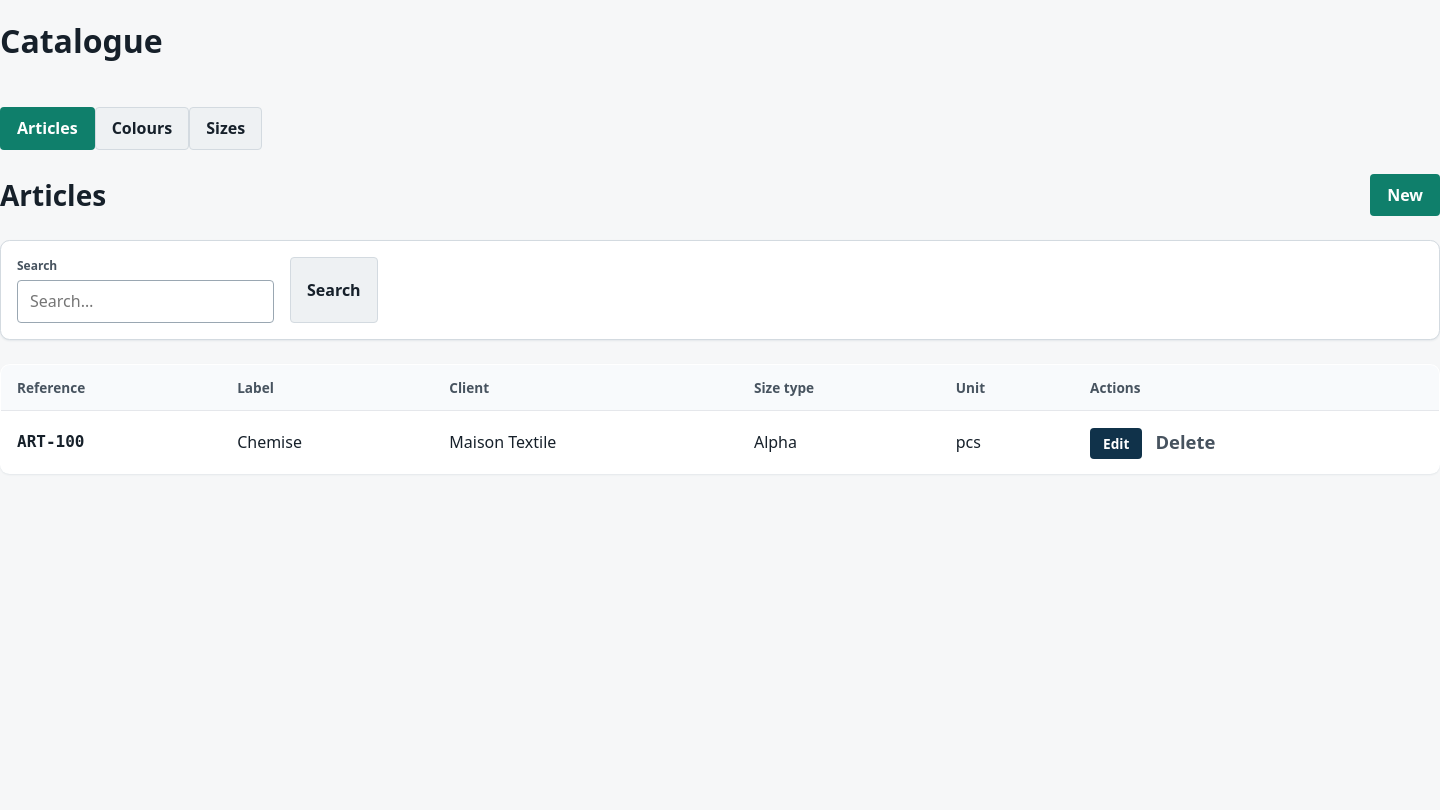
CataloguePage › guards unsaved changes when the editor is closed
Expected: the text "ART-100" is shown, [17, 432, 84, 451]
Click the button "New": (1405,195) [1370, 174, 1439, 216]
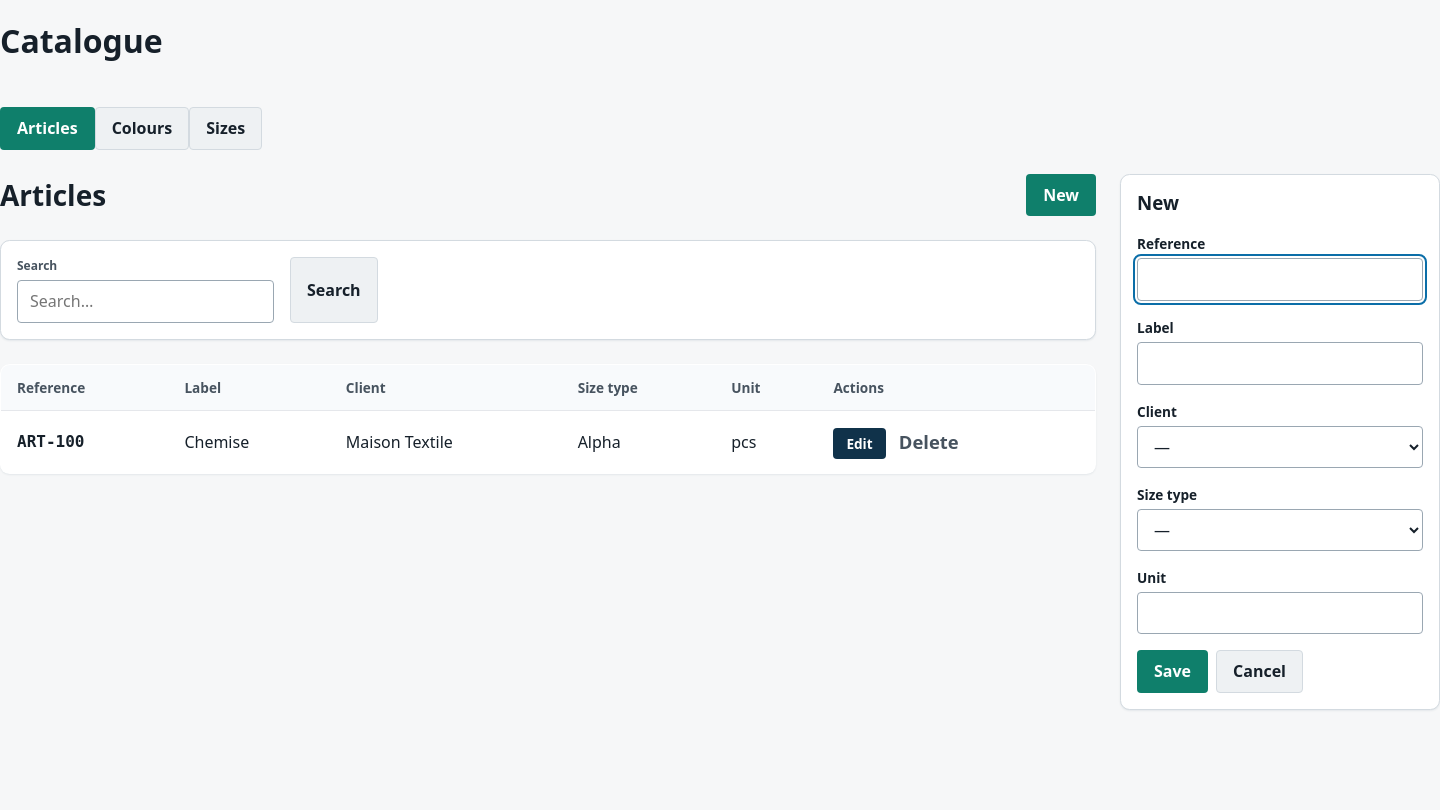
In the field labelled "Label": (1280,363) [1137, 342, 1423, 384], type "Brouillon"
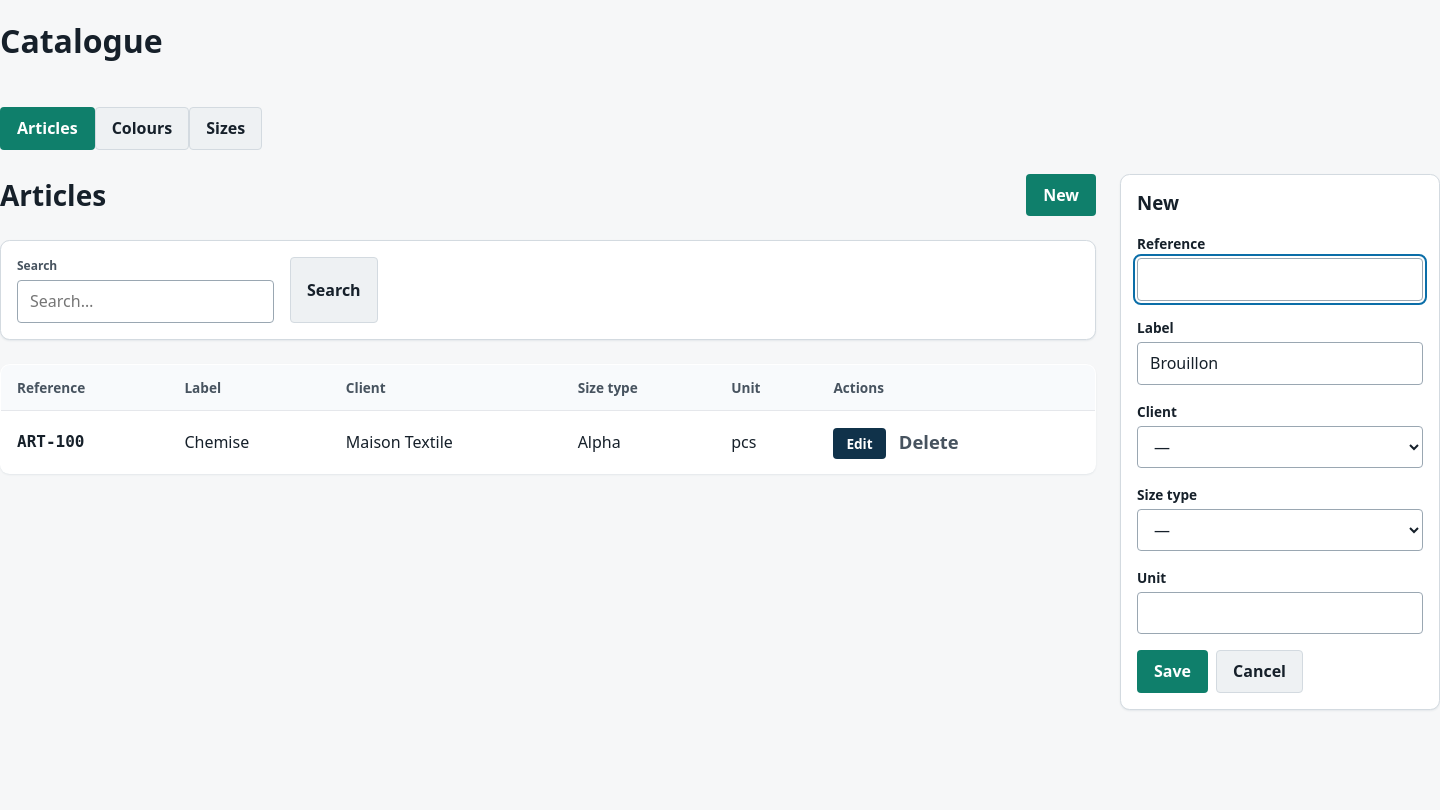
Click the button "Cancel": (1259,672) [1216, 650, 1303, 693]
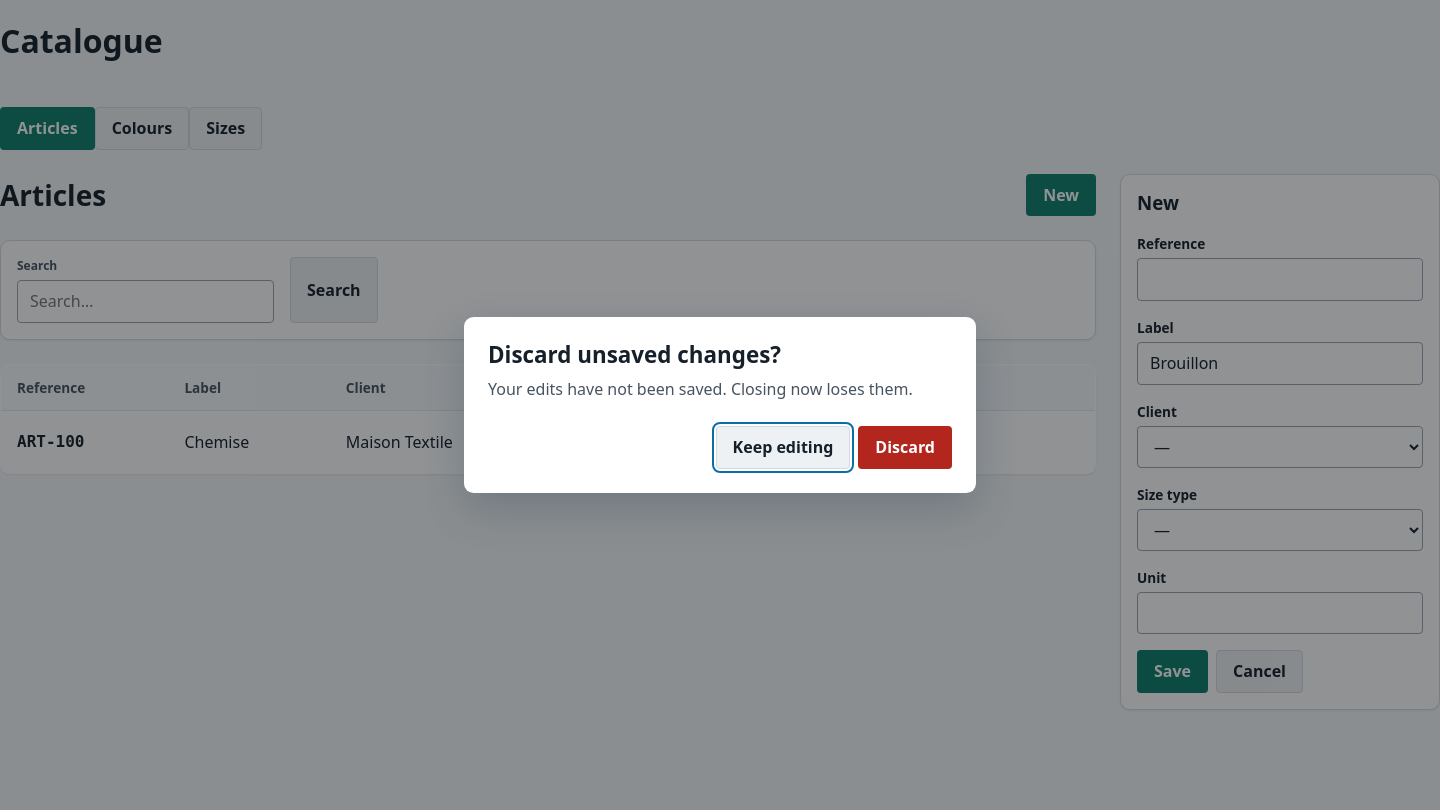
Click the button "Keep editing": (783,447) [716, 426, 850, 469]
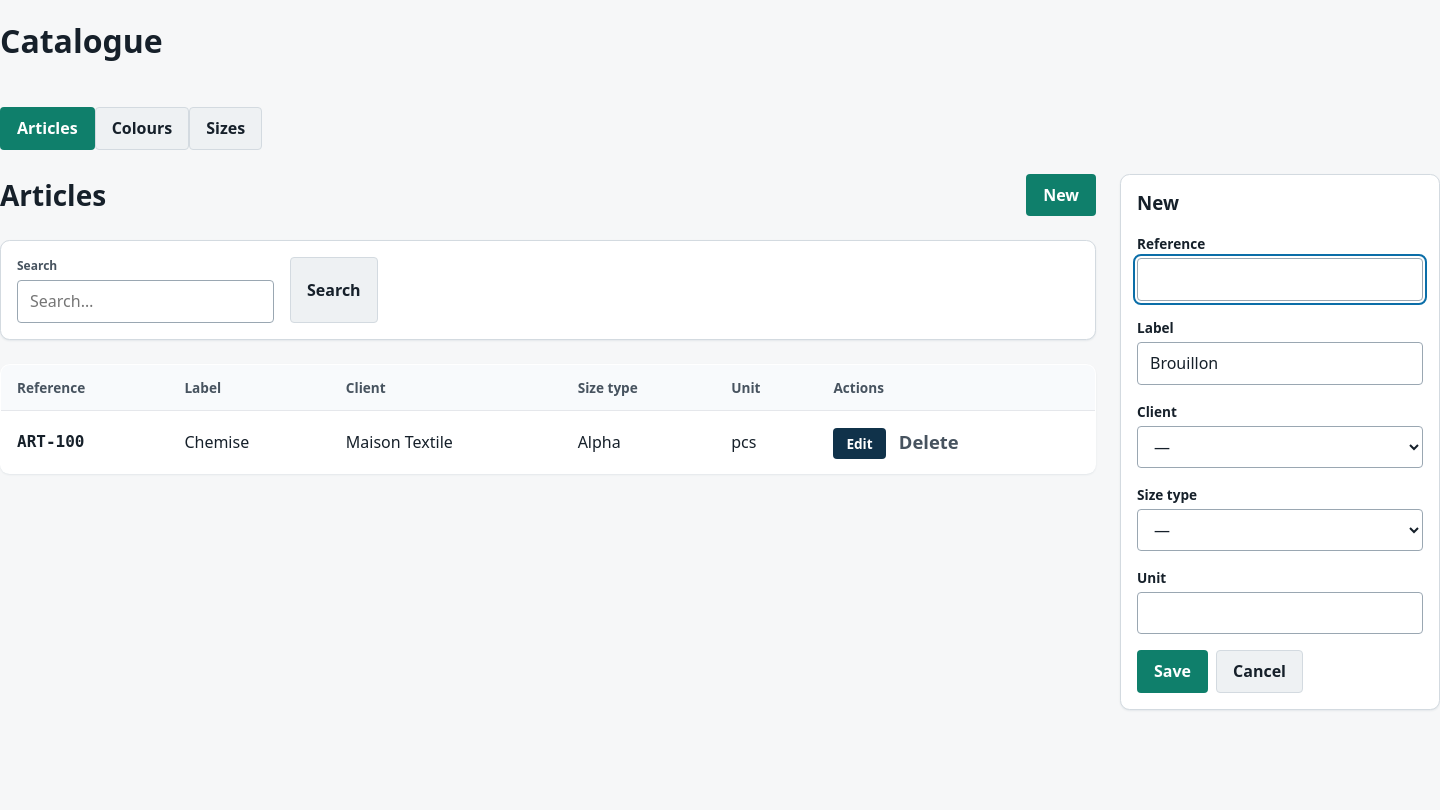
Result: the form with test id "entry-form" is shown at [1120, 174, 1439, 710]
Click the button "Cancel": (1259,672) [1216, 650, 1303, 693]
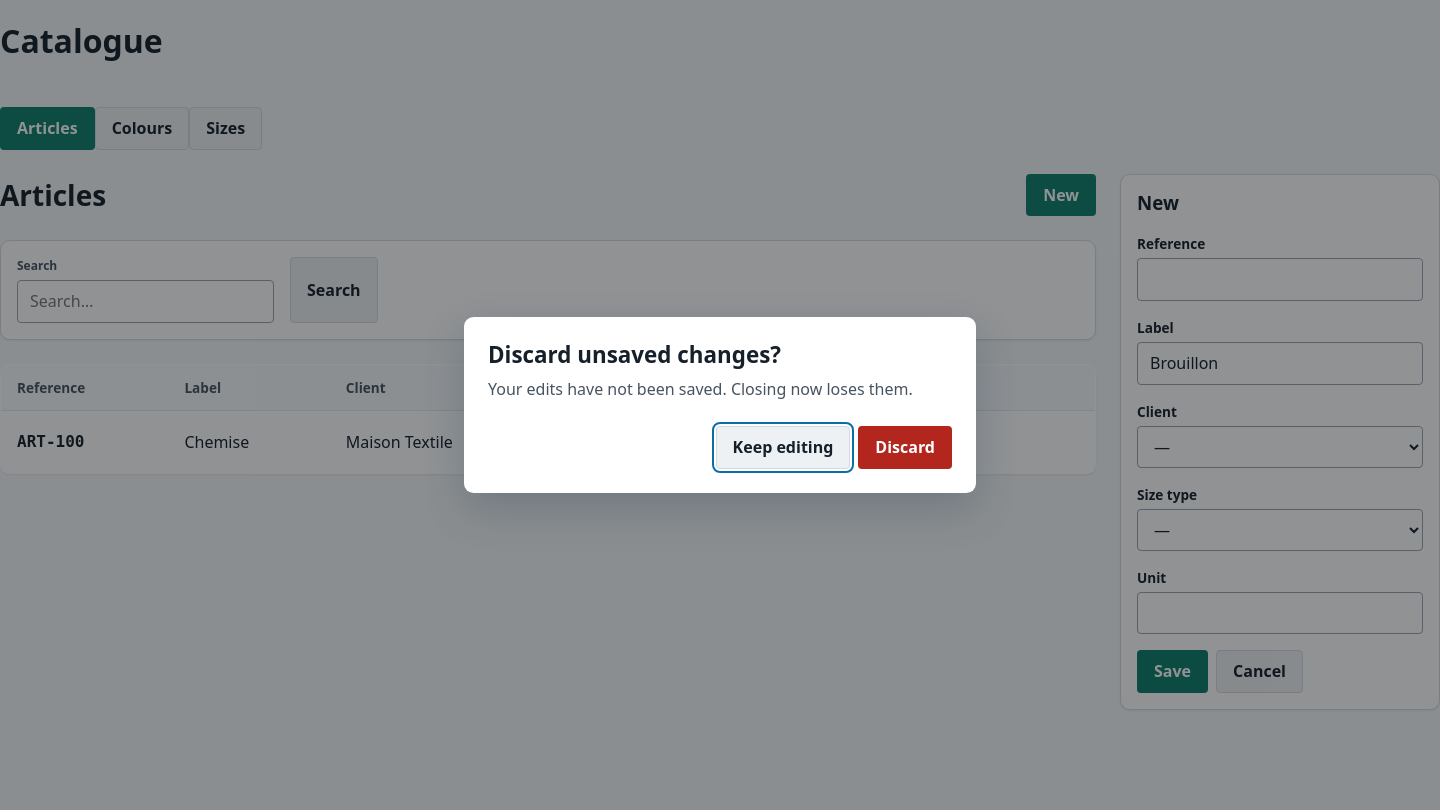
Click the button with test id "dialog-confirm": (905,447) [858, 426, 952, 469]
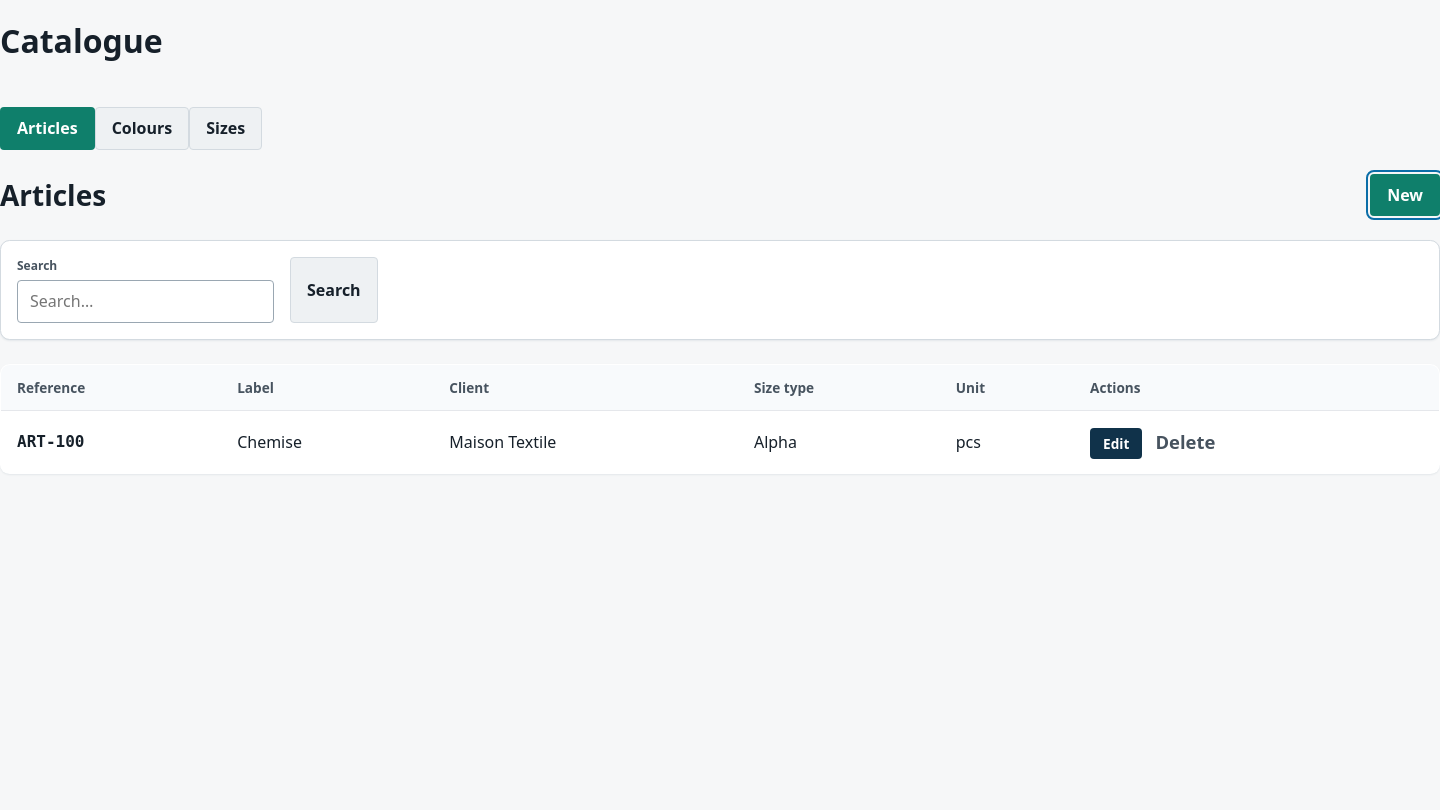
Result: the form with test id "entry-form" is gone
